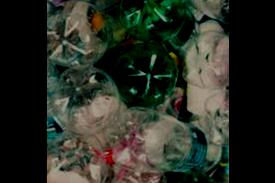Plastic: (117, 44, 177, 108), (118, 0, 177, 42)
